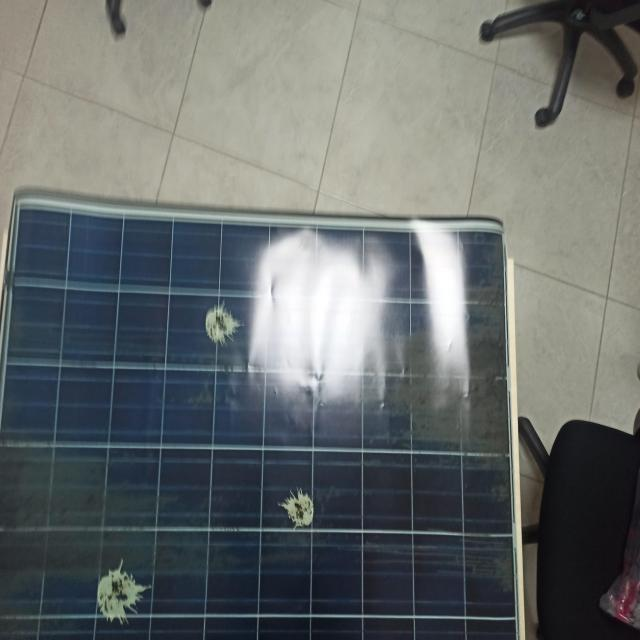faulty: (1, 197, 520, 640)
